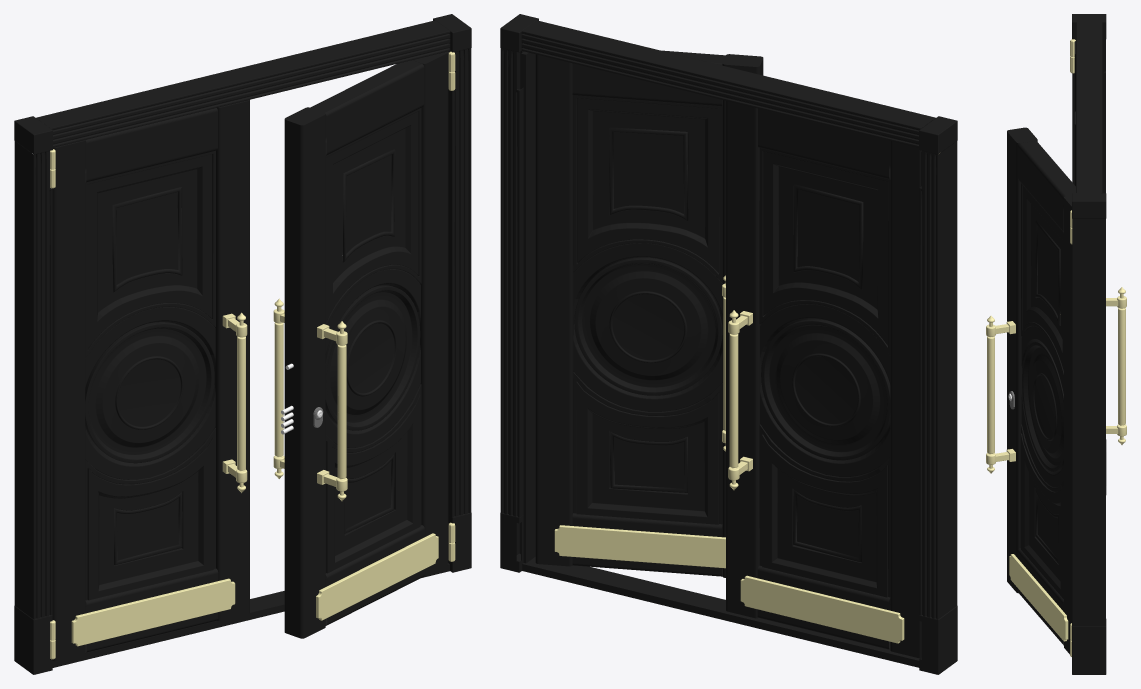
Rendered from entrance_door_01.glb.
3 renders of one model, left to right at view 1: azimuth 30°, elevation 25°; view 2: azimuth 150°, elevation 25°; view 3: azimuth 270°, elevation 25°, orthographic. The views are drawn at different scales.
Parts seen in each view (by area): view 1: Object_10, Object_6, Object_13, Object_14, Object_7, Object_9, Object_12, Object_8, Object_5, Object_15, Object_11, Object_4 (+1 smaller); view 2: Object_10, Object_6, Object_13, Object_14, Object_12, Object_8, Object_5, Object_7, Object_9, Object_11, Object_15, Object_4; view 3: Object_10, Object_14, Object_13, Object_12, Object_5, Object_6, Object_4, Object_15, Object_11, Object_3.
Part boxes in pixels (x1,y1,x2,y2): Object_10: [112, 51, 447, 638]; Object_6: [52, 100, 418, 661]; Object_13: [36, 20, 450, 652]; Object_14: [14, 48, 471, 619]; Object_7: [85, 322, 214, 463]; Object_9: [87, 154, 212, 348]; Object_12: [14, 14, 471, 674]; Object_8: [87, 51, 450, 600]; Object_5: [325, 285, 420, 430]; Object_15: [71, 533, 438, 646]; Object_11: [85, 269, 420, 479]; Object_4: [236, 298, 347, 501]; Object_10: [535, 54, 863, 577]; Object_6: [577, 98, 920, 658]; Object_13: [521, 20, 935, 649]; Object_14: [500, 48, 957, 619]; Object_12: [500, 14, 957, 674]; Object_8: [521, 51, 921, 657]; Object_5: [574, 257, 722, 395]; Object_7: [761, 319, 890, 460]; Object_9: [763, 151, 887, 345]; Object_11: [573, 243, 890, 476]; Object_15: [554, 525, 904, 643]; Object_4: [722, 275, 739, 490]; Object_10: [1007, 127, 1072, 654]; Object_14: [1072, 39, 1105, 626]; Object_13: [1018, 22, 1102, 232]; Object_12: [1017, 14, 1106, 674]; Object_5: [1022, 341, 1063, 471]; Object_6: [1022, 41, 1075, 370]; Object_4: [986, 287, 1126, 473]; Object_15: [1009, 554, 1068, 641]; Object_11: [1021, 326, 1063, 487]; Object_3: [995, 39, 1118, 656].
Bounding box in the file's own units: 1173 × 1380 × 372.
